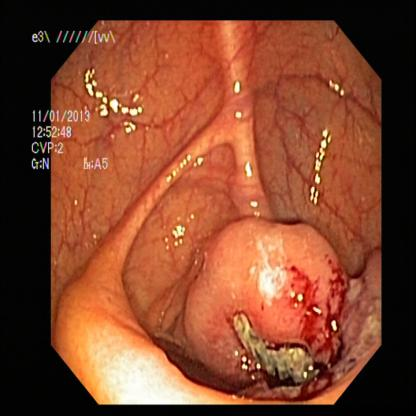Labels: (30, 22, 119, 173)
Polyps: (192, 209, 352, 388)
